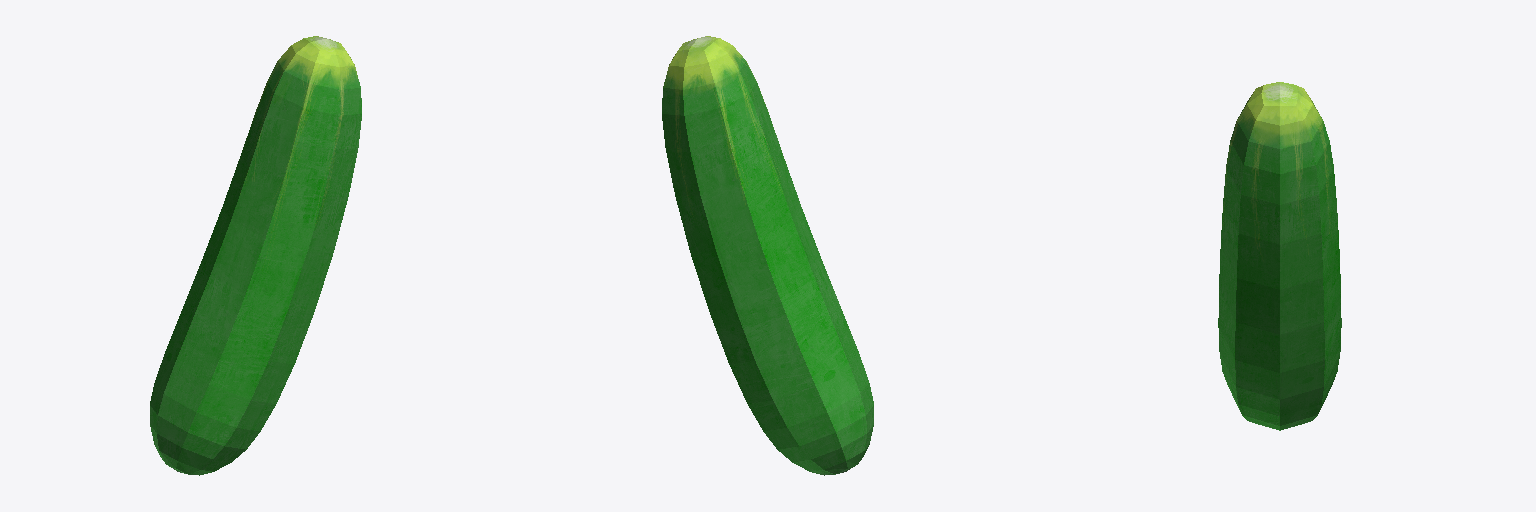
3 views of the same model, side by side, from view 1: azimuth 30°, elevation 25°; view 2: azimuth 150°, elevation 25°; view 3: azimuth 270°, elevation 25° (orthographic).
Parts seen in each view (by area): view 1: cucumber_Cube.002; view 2: cucumber_Cube.002; view 3: cucumber_Cube.002.
Boxes of the visible parts, x1,y1,x2,y2 form: cucumber_Cube.002: [150, 36, 361, 475]; cucumber_Cube.002: [662, 36, 873, 475]; cucumber_Cube.002: [1218, 82, 1341, 430].
Bounding box in the file's own units: 0.2327 × 0.4495 × 0.125.
1 materials, 1 textured.